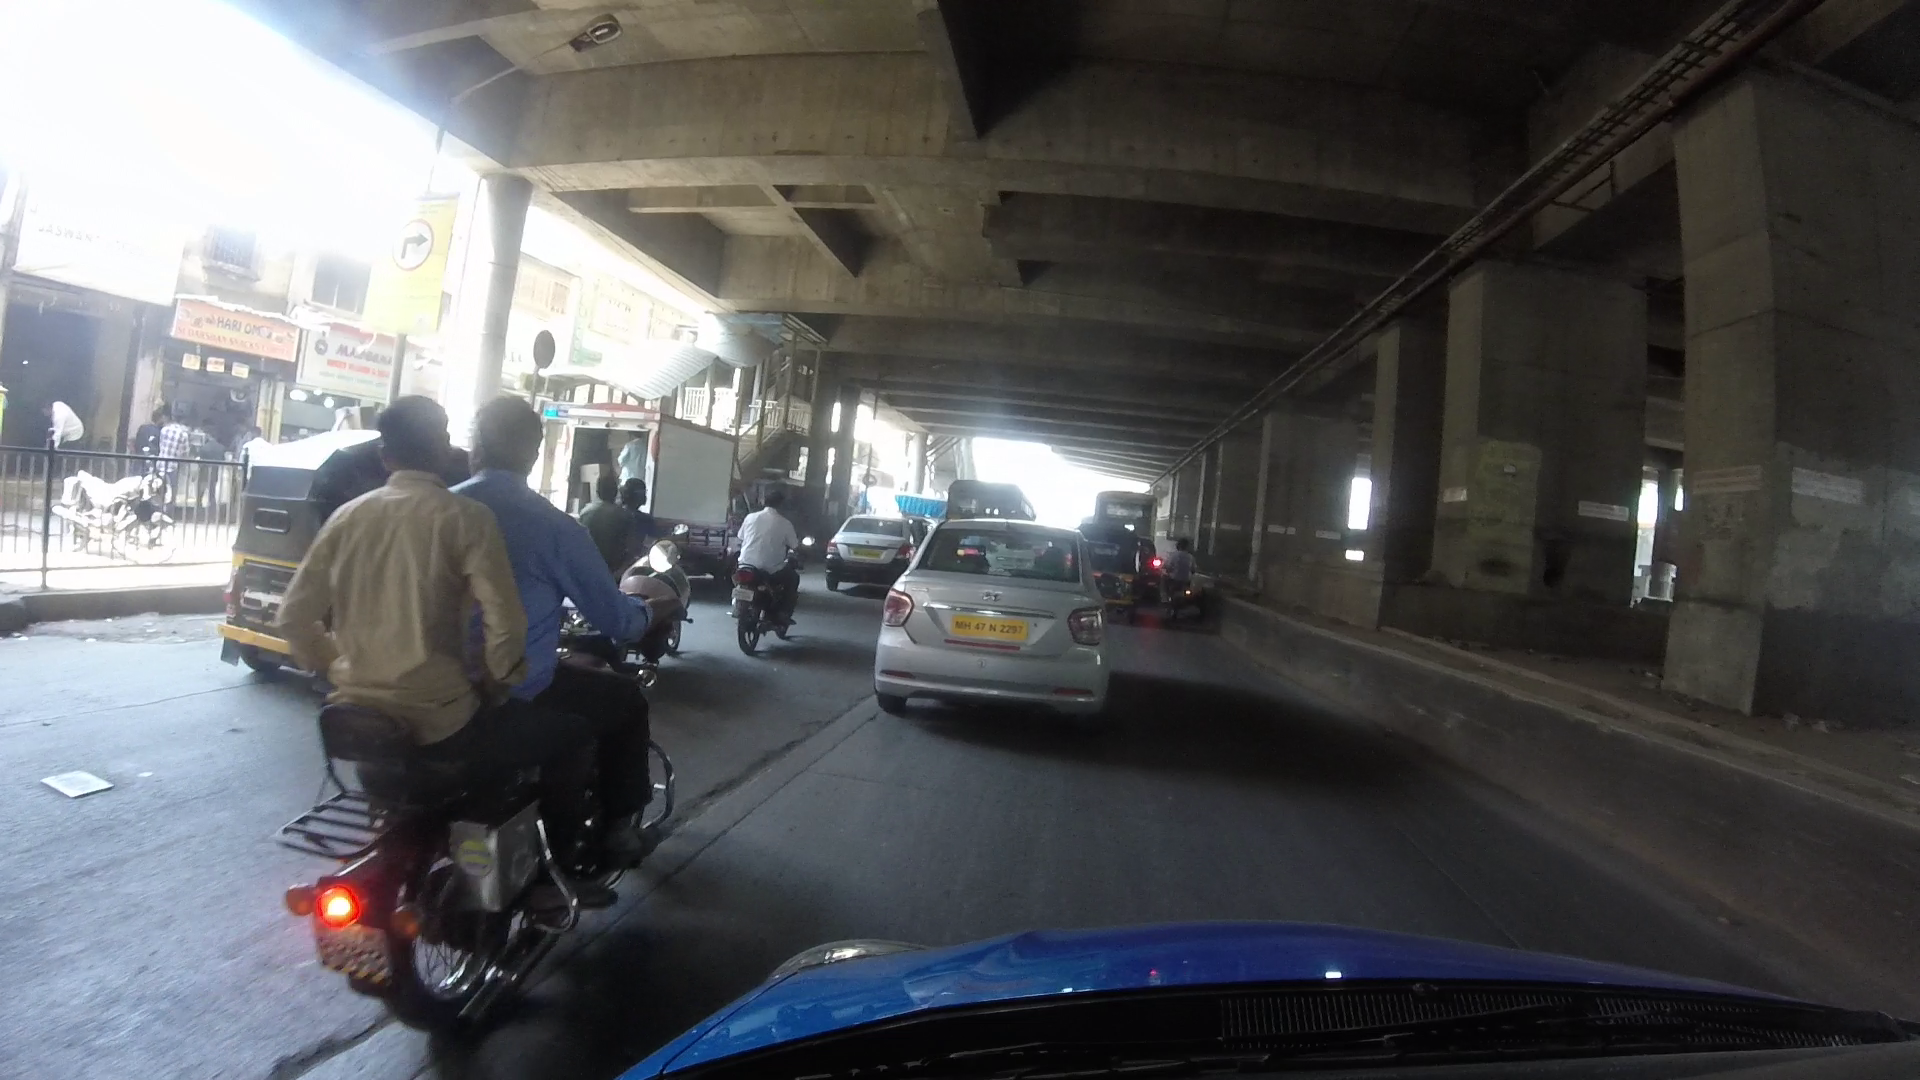bike/scooter: (302, 382, 649, 1039), (589, 472, 690, 654), (728, 495, 802, 666)
car: (216, 422, 475, 673), (861, 513, 1113, 716)
truck: (575, 401, 756, 595)
